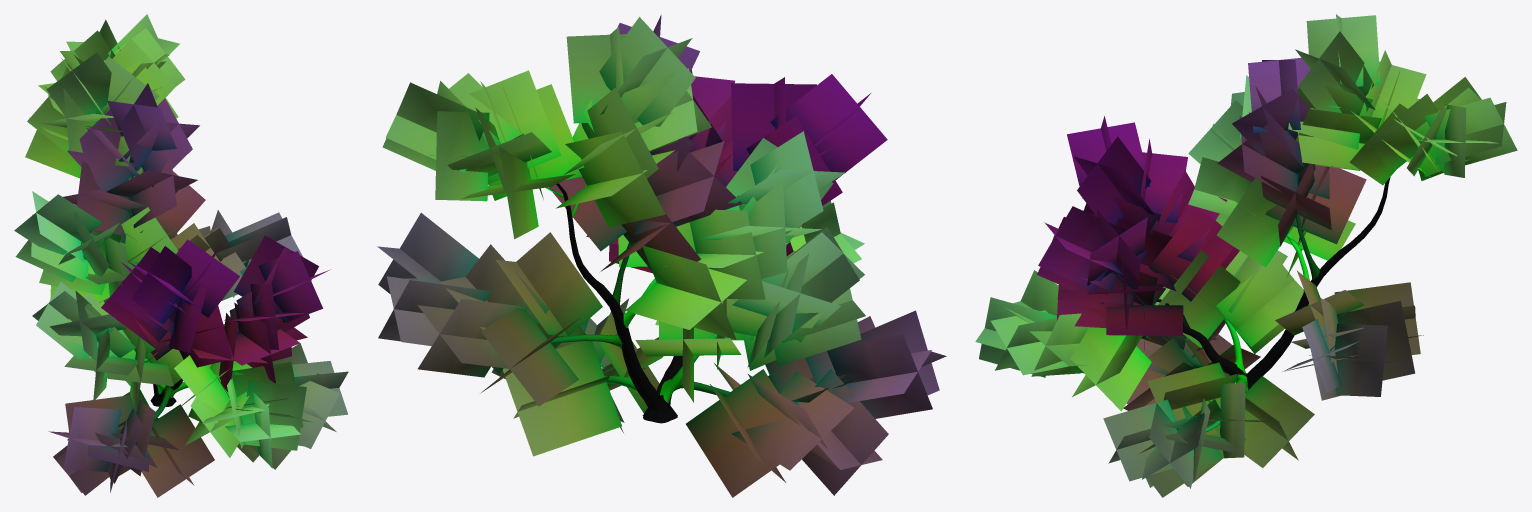
File: URP_P11_Tree_6_LOD_0.fbx
3 views of the same model, side by side, from view 1: azimuth 30°, elevation 25°; view 2: azimuth 150°, elevation 25°; view 3: azimuth 270°, elevation 25° (orthographic). The views are drawn at different scales.
Parts seen in each view (by area): view 1: Tree_6_LOD_0; view 2: Tree_6_LOD_0; view 3: Tree_6_LOD_0.
Boxes of the visible parts, <box> form: Tree_6_LOD_0: <box>14,14,348,497</box>; Tree_6_LOD_0: <box>377,15,946,497</box>; Tree_6_LOD_0: <box>975,14,1517,497</box>.
Size of the model in its own units: 592 by 675 by 785.
